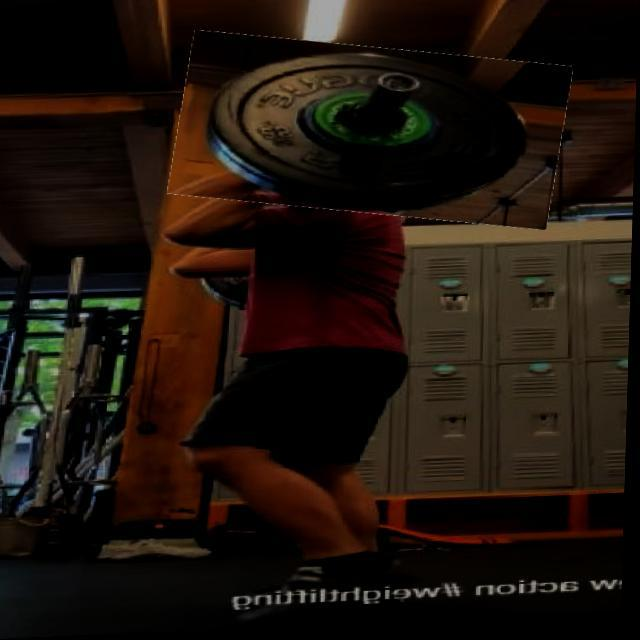barbell: (172, 33, 571, 237)
